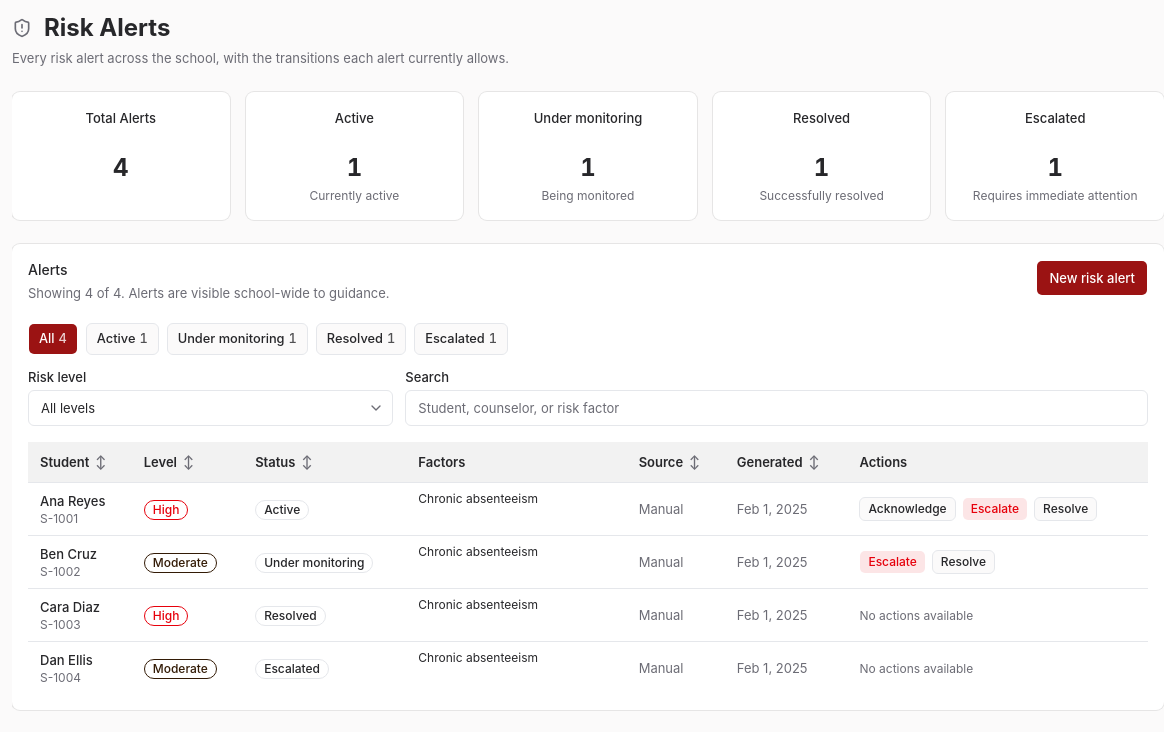
it: RiskAlertsPage › summarises every status in tiles counted over the unfiltered list
The image size is (1164, 732).
Expected: the text "Ana Reyes" is shown, [40, 493, 105, 509]
Expected: the element "Total Alerts" shows "4", [113, 153, 128, 182]
Click the button "Active 1" at [122, 339], box [86, 323, 159, 355]
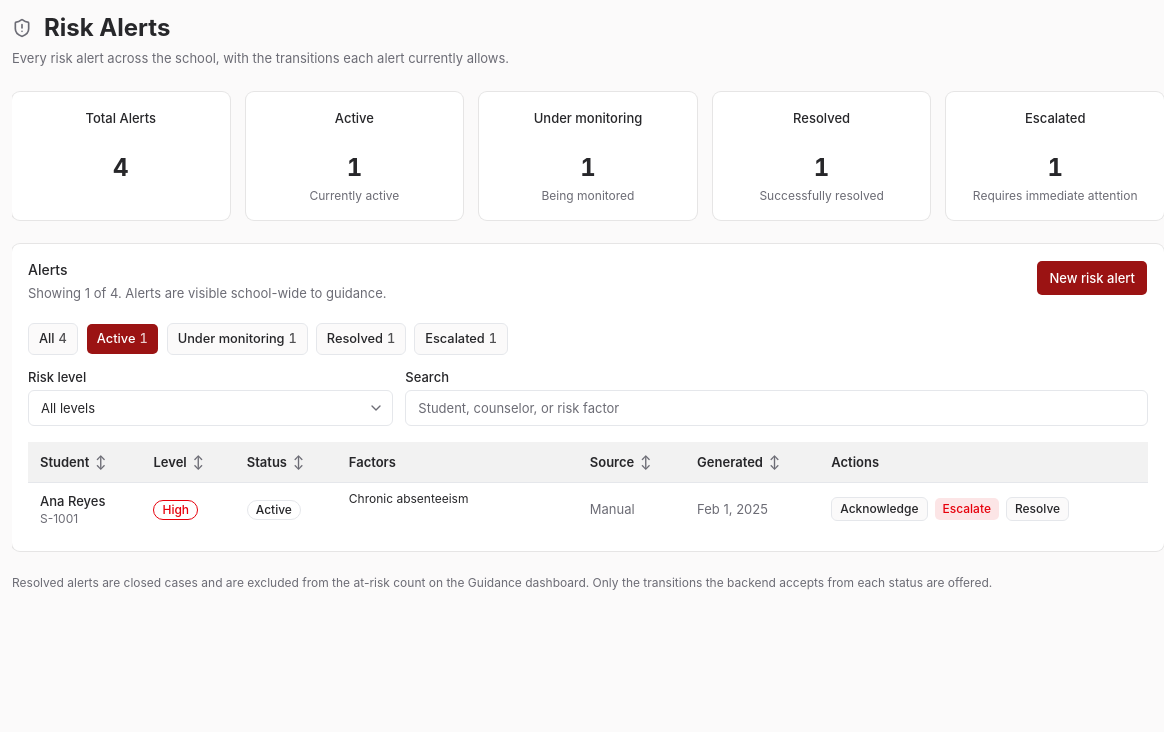
Expected: the element "Total Alerts" shows "4", [113, 153, 128, 182]
Now the text "Showing 1 of 4. Alerts are visible school-wide to guidance." is shown, box [28, 283, 386, 303]
